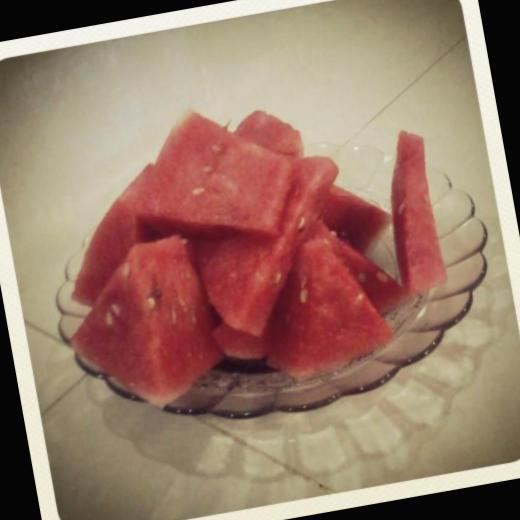Cherry: (35, 70, 462, 421)
